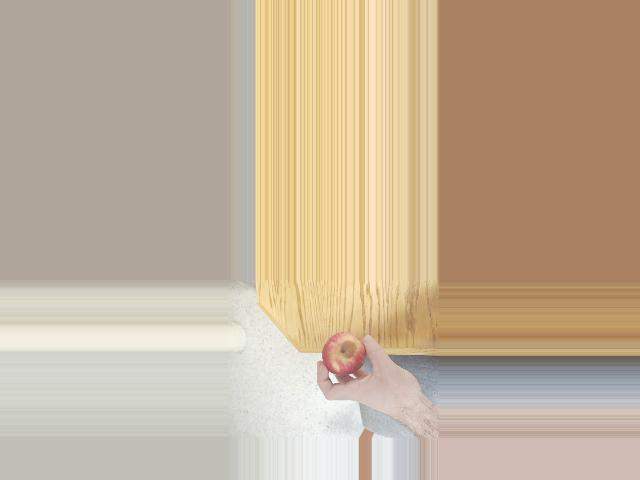apple: (321, 331, 368, 372)
